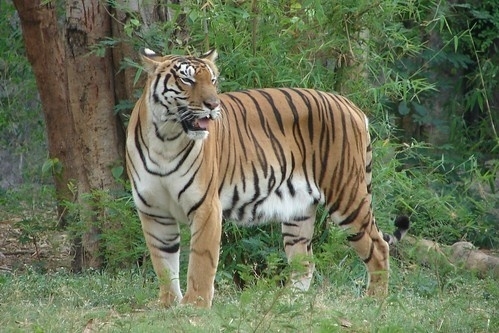tigre: (126, 47, 392, 312)
